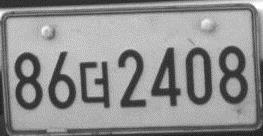0: (185, 46, 214, 106)
2: (116, 47, 147, 110)
4: (148, 45, 182, 108)
6: (46, 49, 76, 110)
8: (217, 44, 249, 104), (13, 51, 44, 111)
더: (77, 60, 111, 108)
